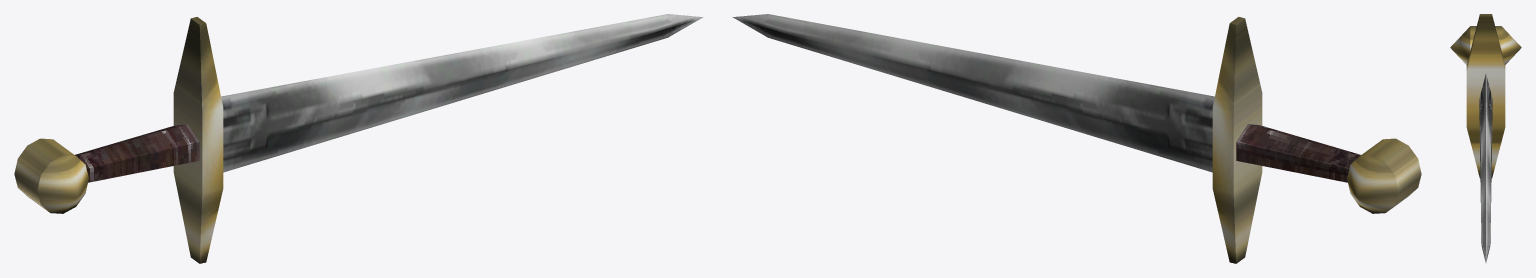
3 views of the same model, side by side, from view 1: azimuth 30°, elevation 25°; view 2: azimuth 150°, elevation 25°; view 3: azimuth 270°, elevation 25° (orthographic). The views are drawn at different scales.
Visible parts, largest first — view 1: it10656; view 2: it10656; view 3: it10656.
Boxes of the visible parts, left/top/right/bottom form: it10656: left=14, top=14, right=703, bottom=263; it10656: left=732, top=14, right=1421, bottom=263; it10656: left=1450, top=14, right=1521, bottom=262.
Bounding box in the file's own units: 1.93 × 0.652 × 0.2611.
Materials: 2 (2 with a texture image).
